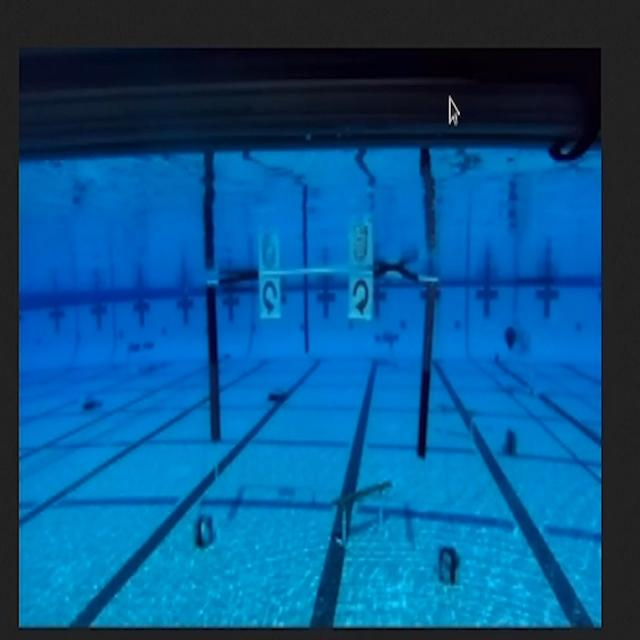Gate: (200, 267, 446, 469)
